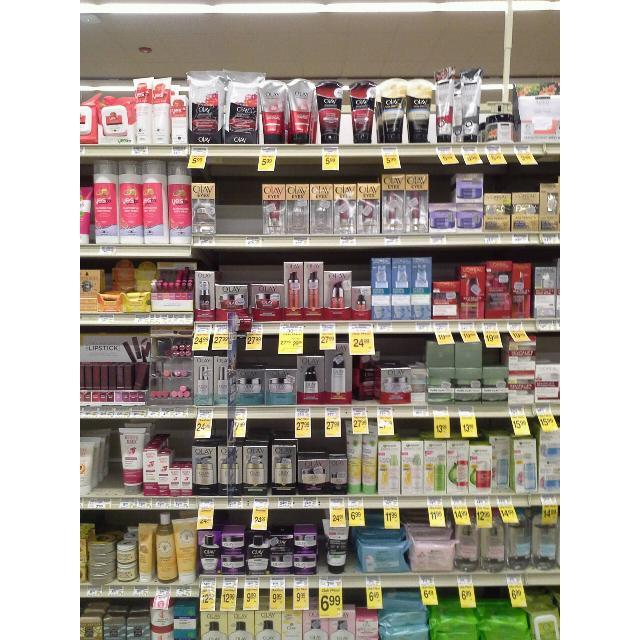empty: (215, 158, 259, 234)
front: (101, 476, 123, 496)
